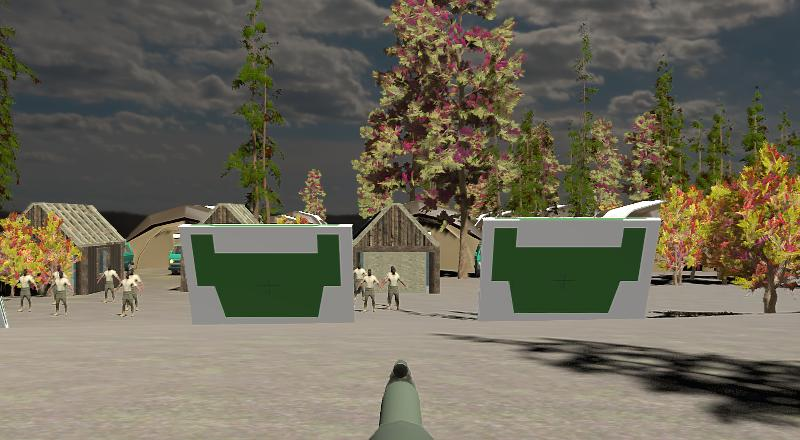House: (21, 202, 129, 297), (350, 201, 445, 292), (204, 203, 261, 230)
Human: (380, 264, 408, 312), (48, 269, 73, 317), (358, 267, 382, 313), (14, 268, 38, 312), (97, 261, 121, 304), (116, 270, 136, 317), (130, 266, 144, 311)
car: (168, 246, 184, 274)
